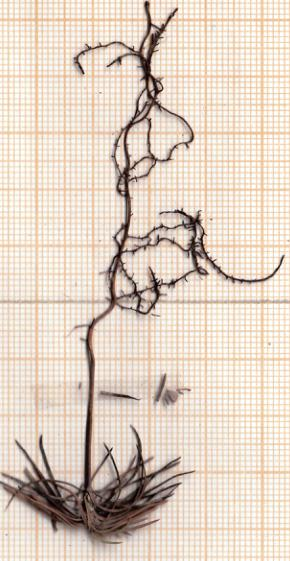flower: (0, 421, 193, 555)
root: (69, 0, 287, 321)
stem: (76, 316, 104, 484)
